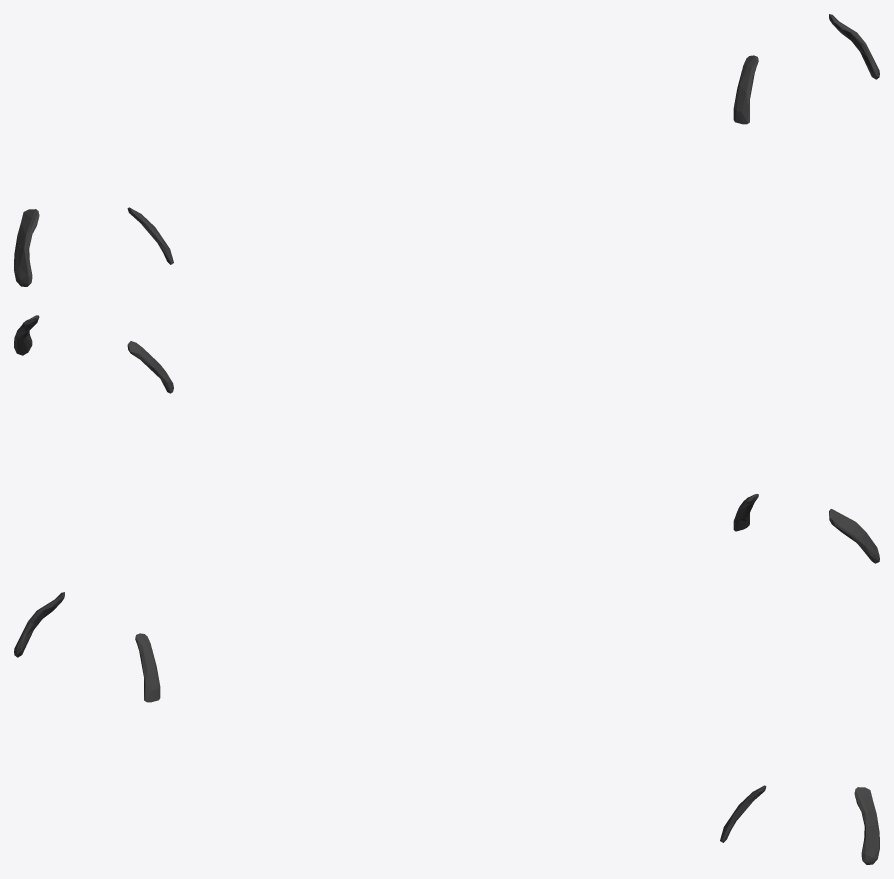
File: lig_collateral_coffin_joint_HL.glb
The picture shows the model from 3 angles, top to bottom: view 1: azimuth 30°, elevation 25°; view 2: azimuth 150°, elevation 25°; view 3: azimuth 330°, elevation 25°; orthographic projection.
Visible parts, largest first — view 1: lig_collateral_coffin_joint_HL; view 2: lig_collateral_coffin_joint_HL; view 3: lig_collateral_coffin_joint_HL.
Boxes of the visible parts, x1,y1,x2,y2 form: lig_collateral_coffin_joint_HL: [14, 14, 879, 286]; lig_collateral_coffin_joint_HL: [14, 315, 879, 563]; lig_collateral_coffin_joint_HL: [14, 592, 879, 864].
Size of the model in its own units: 0.00624 by 0.000448 by 0.000413.
1 material, 1 textured.
